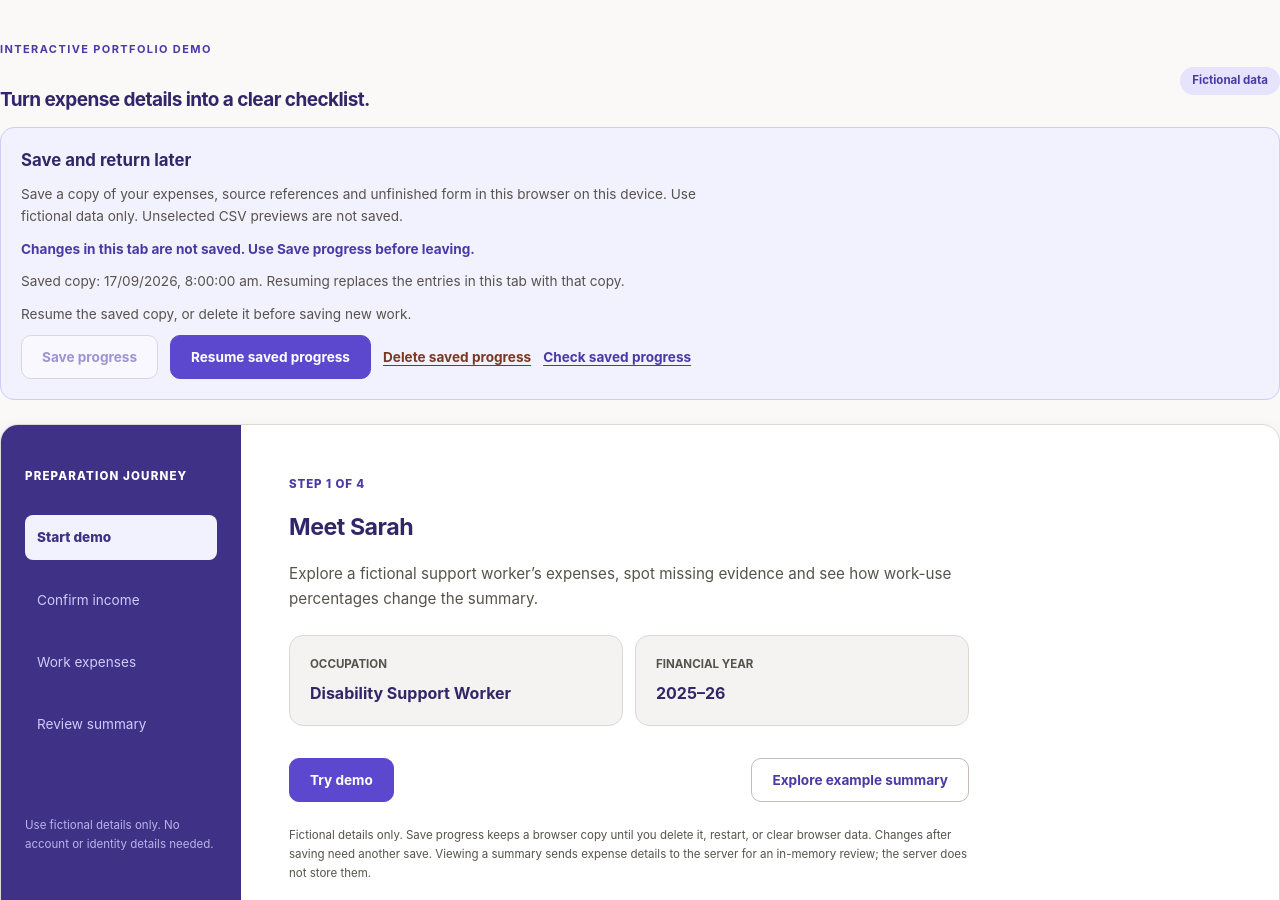
Test: preserves memory when restart cannot delete, then clears both on successful retry
Click the button "Resume saved progress".
click(270, 357)  # box [170,335,371,379]
(page scrolled)
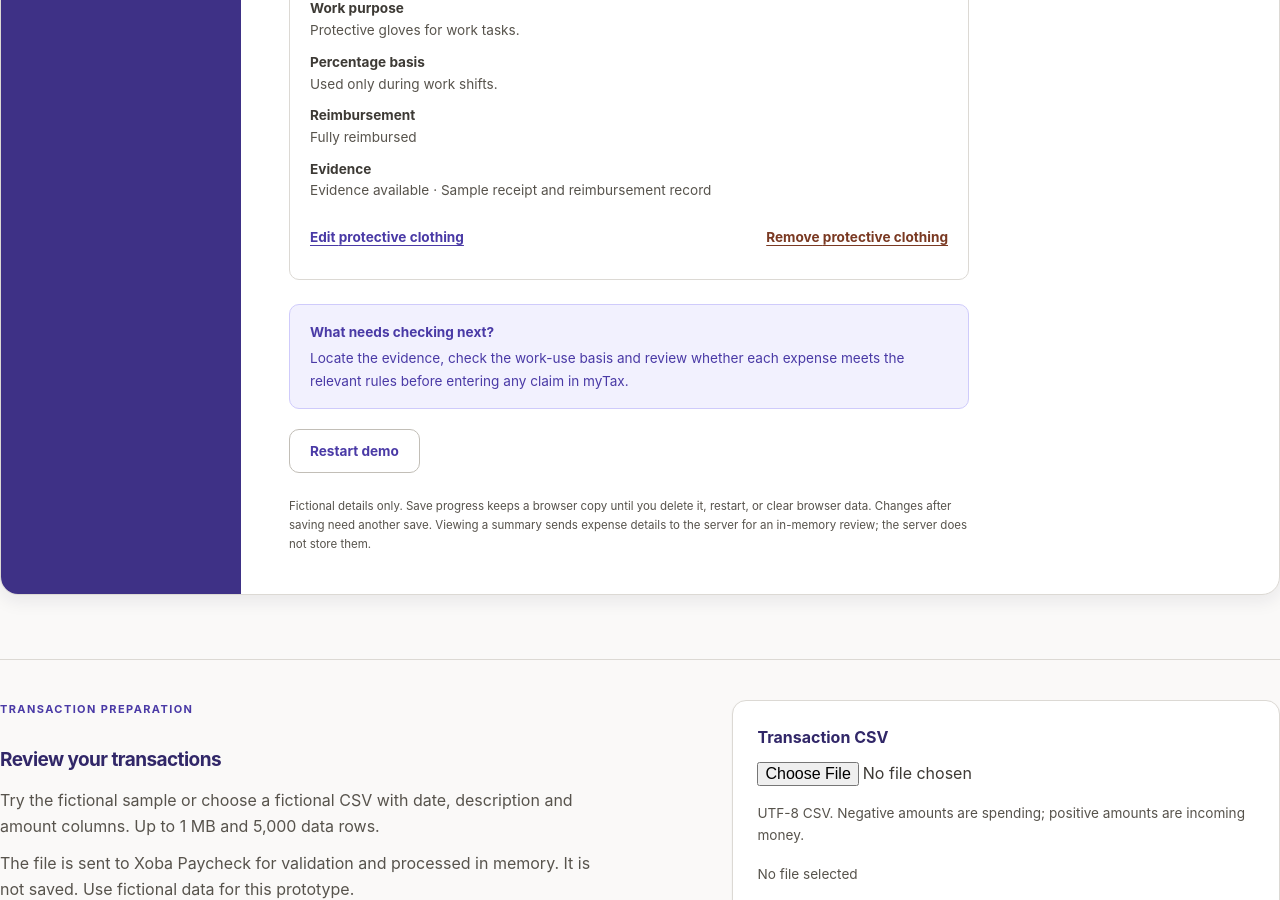
Click the button "Restart demo".
click(354, 451)  # box [289,429,420,473]
(page scrolled)
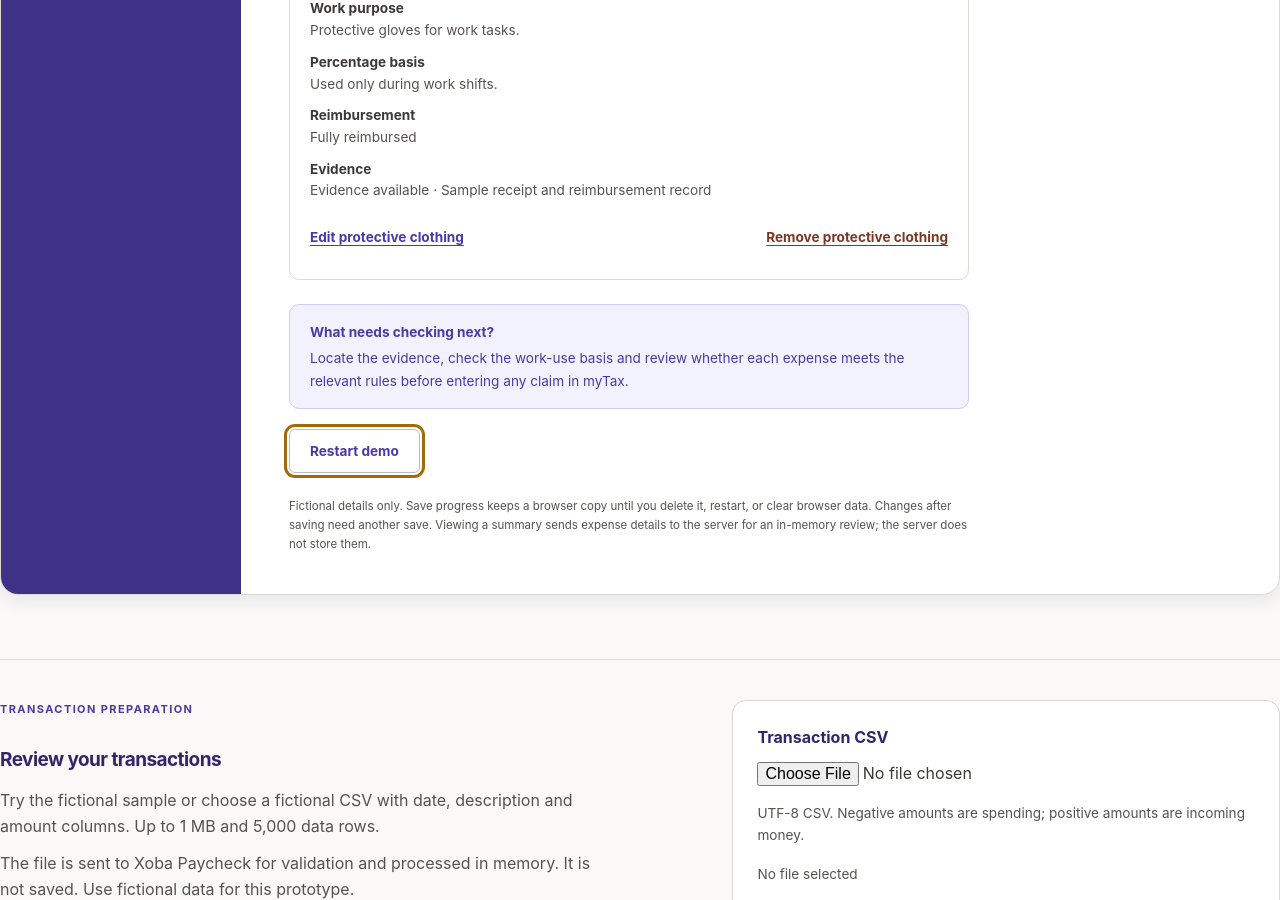
Click the button "Restart demo".
click(354, 451)  # box [289,429,420,473]
(page scrolled)
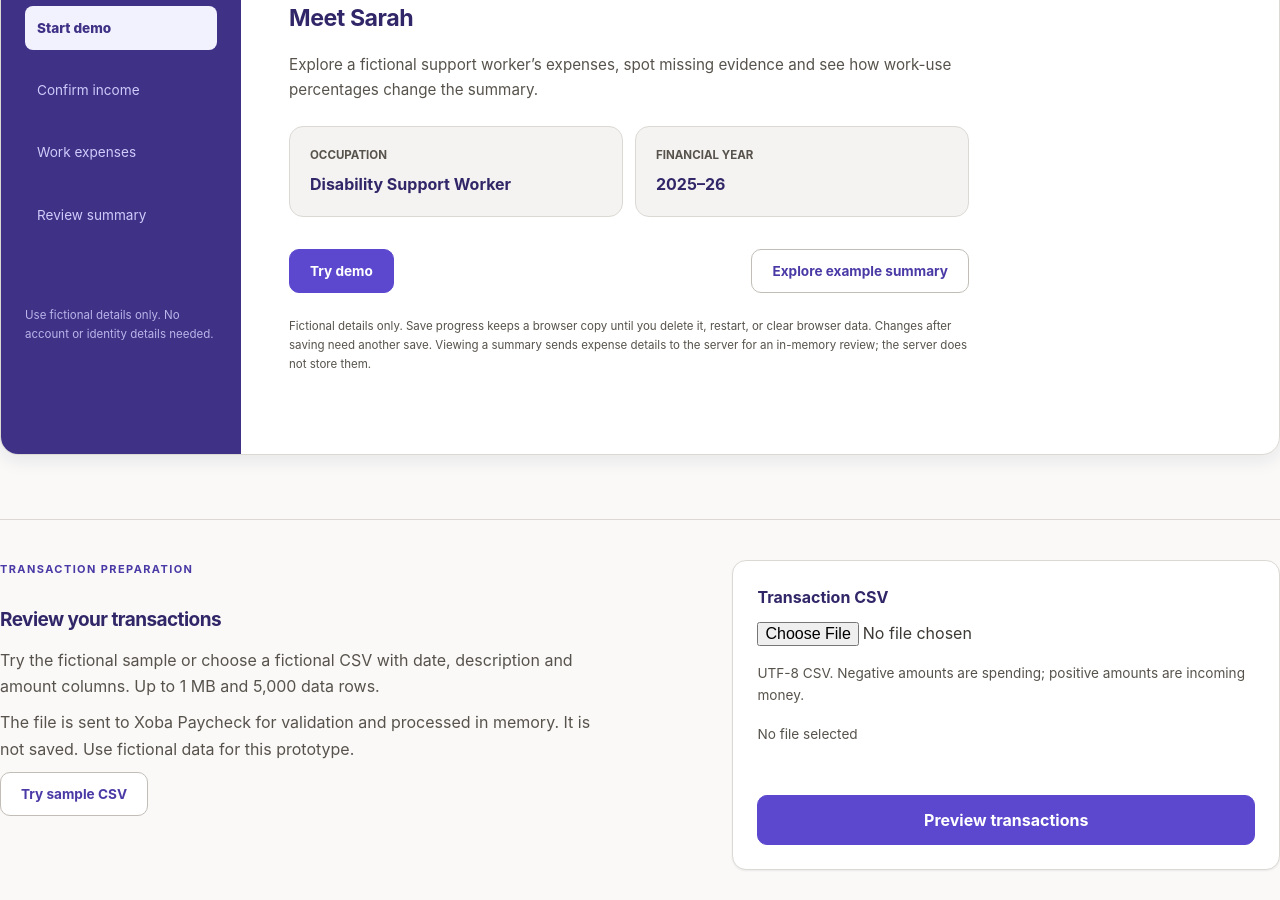
Check: the heading "Meet Sarah" is shown, box [289,4,413,32]
